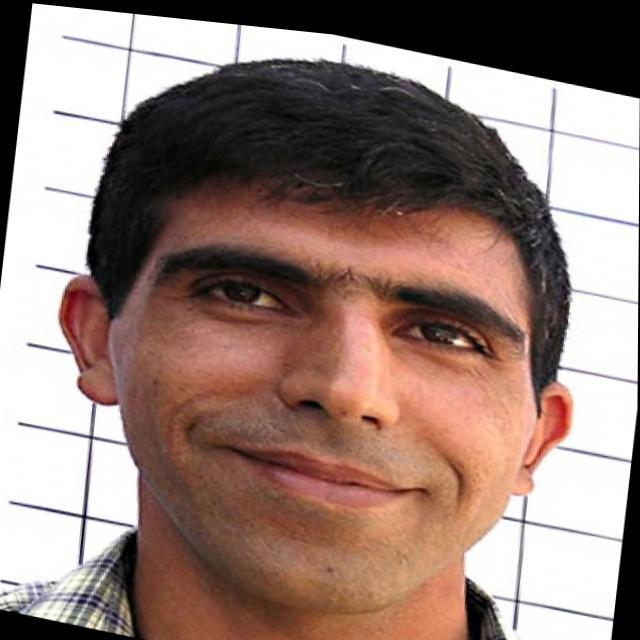Nonhelmet: (50, 49, 570, 613)
